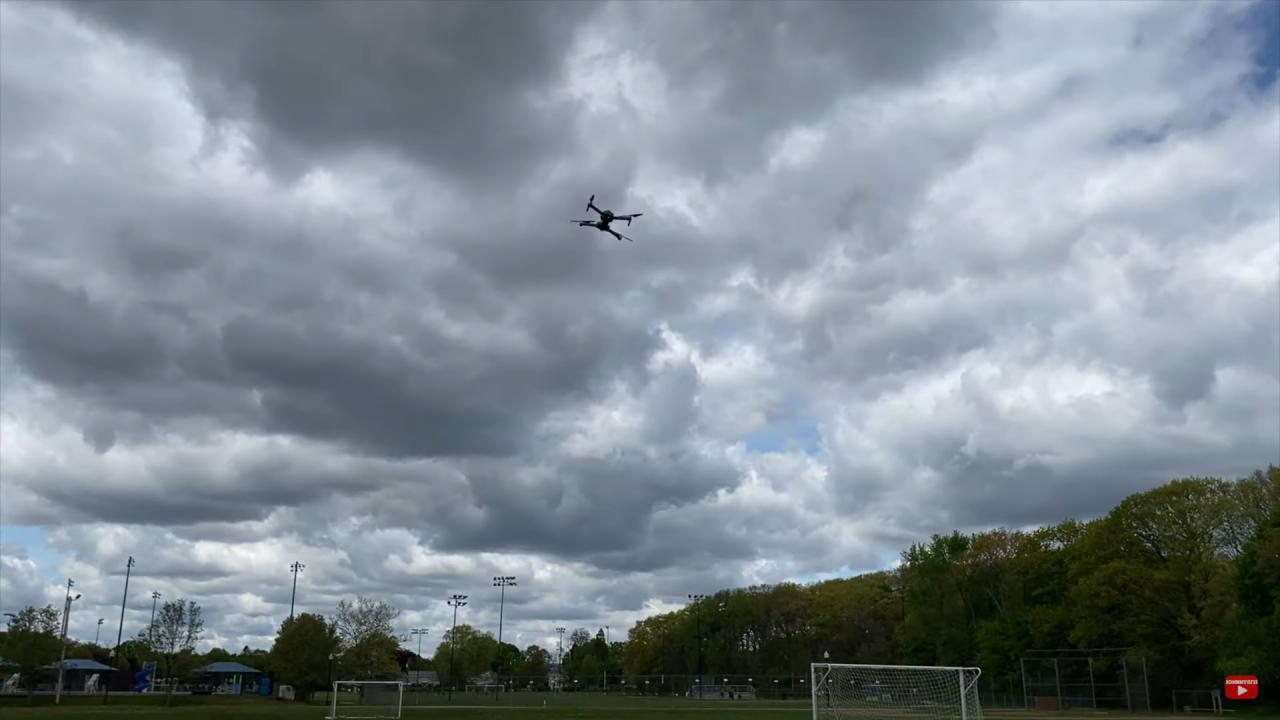Drone: (560, 184, 652, 251)
